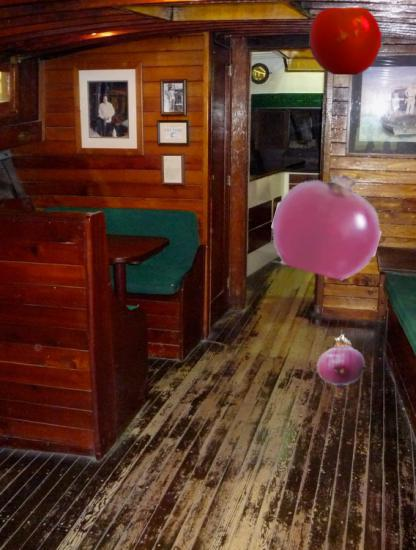Onion: (308, 326, 377, 395)
Redcurrant: (274, 170, 382, 278)
Tomato: (309, 5, 381, 77)
